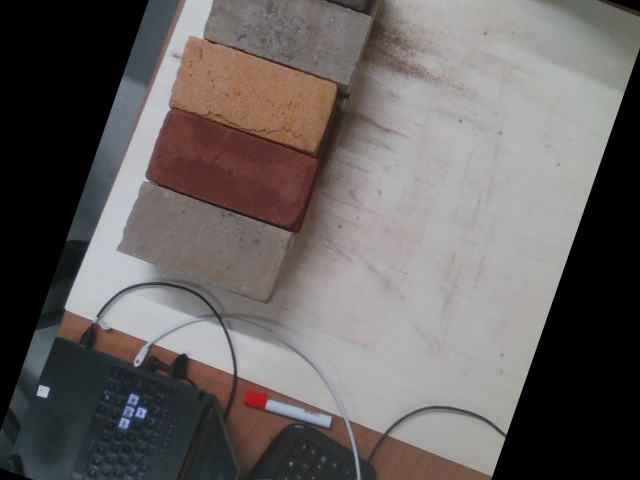brick: (120, 181, 287, 303), (148, 108, 314, 228), (168, 38, 335, 150)
